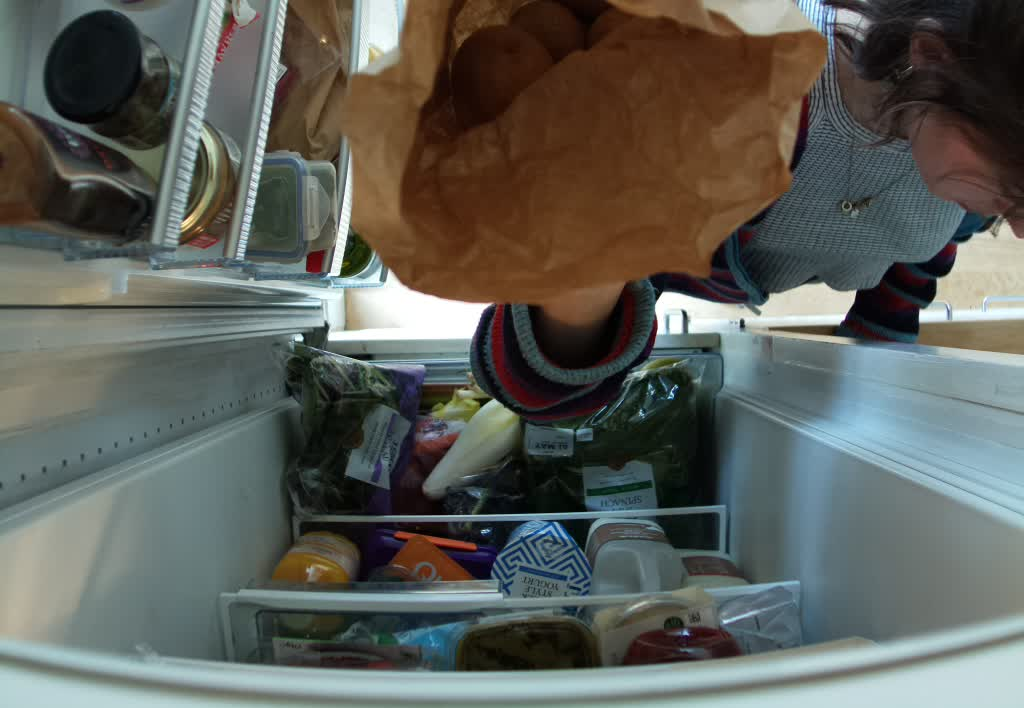potatoes: (429, 1, 605, 152)
